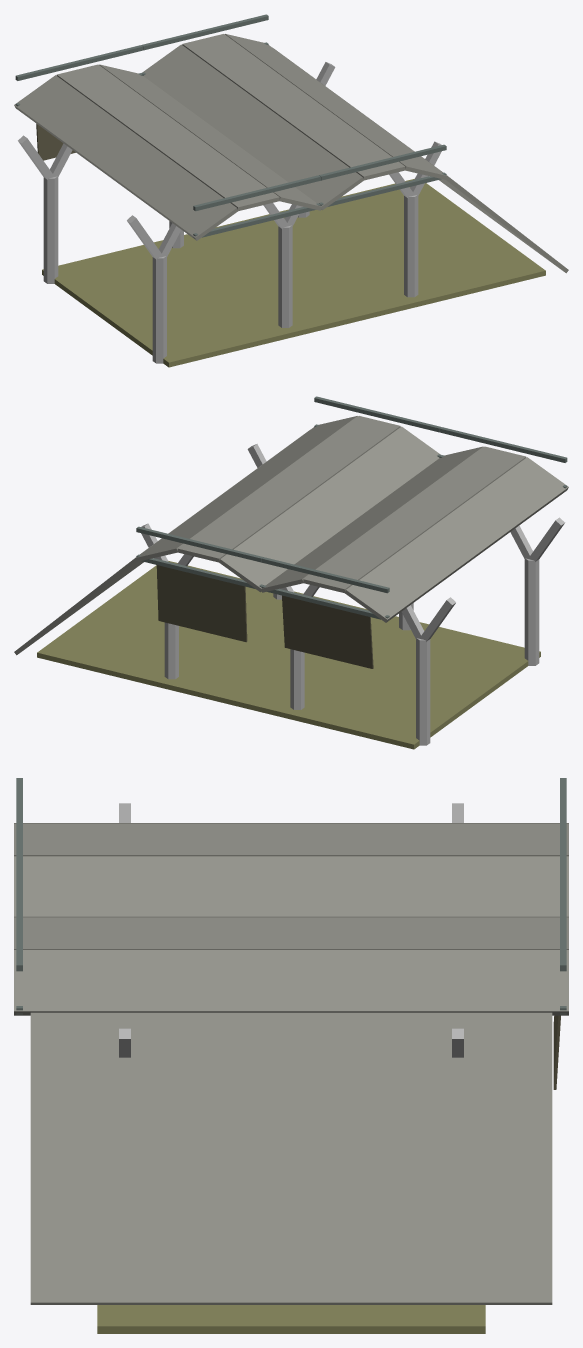
File: SM_MarquesinaBus_v3_Lonas_e1_Danado_LOD1.fbx
3 renders of one model, top to bottom at view 1: azimuth 30°, elevation 25°; view 2: azimuth 150°, elevation 25°; view 3: azimuth 270°, elevation 25°, orthographic. The views are drawn at different scales.
Parts seen in each view (by area): view 1: SM_marquesina_bus_v13_LOD1; view 2: SM_marquesina_bus_v13_LOD1; view 3: SM_marquesina_bus_v13_LOD1.
Part boxes in pixels (x1,y1,x2,y2): SM_marquesina_bus_v13_LOD1: (14, 14, 568, 367); SM_marquesina_bus_v13_LOD1: (14, 396, 568, 749); SM_marquesina_bus_v13_LOD1: (14, 778, 568, 1333).
Size of the model in its own units: 13.03 by 5.46 by 10.
